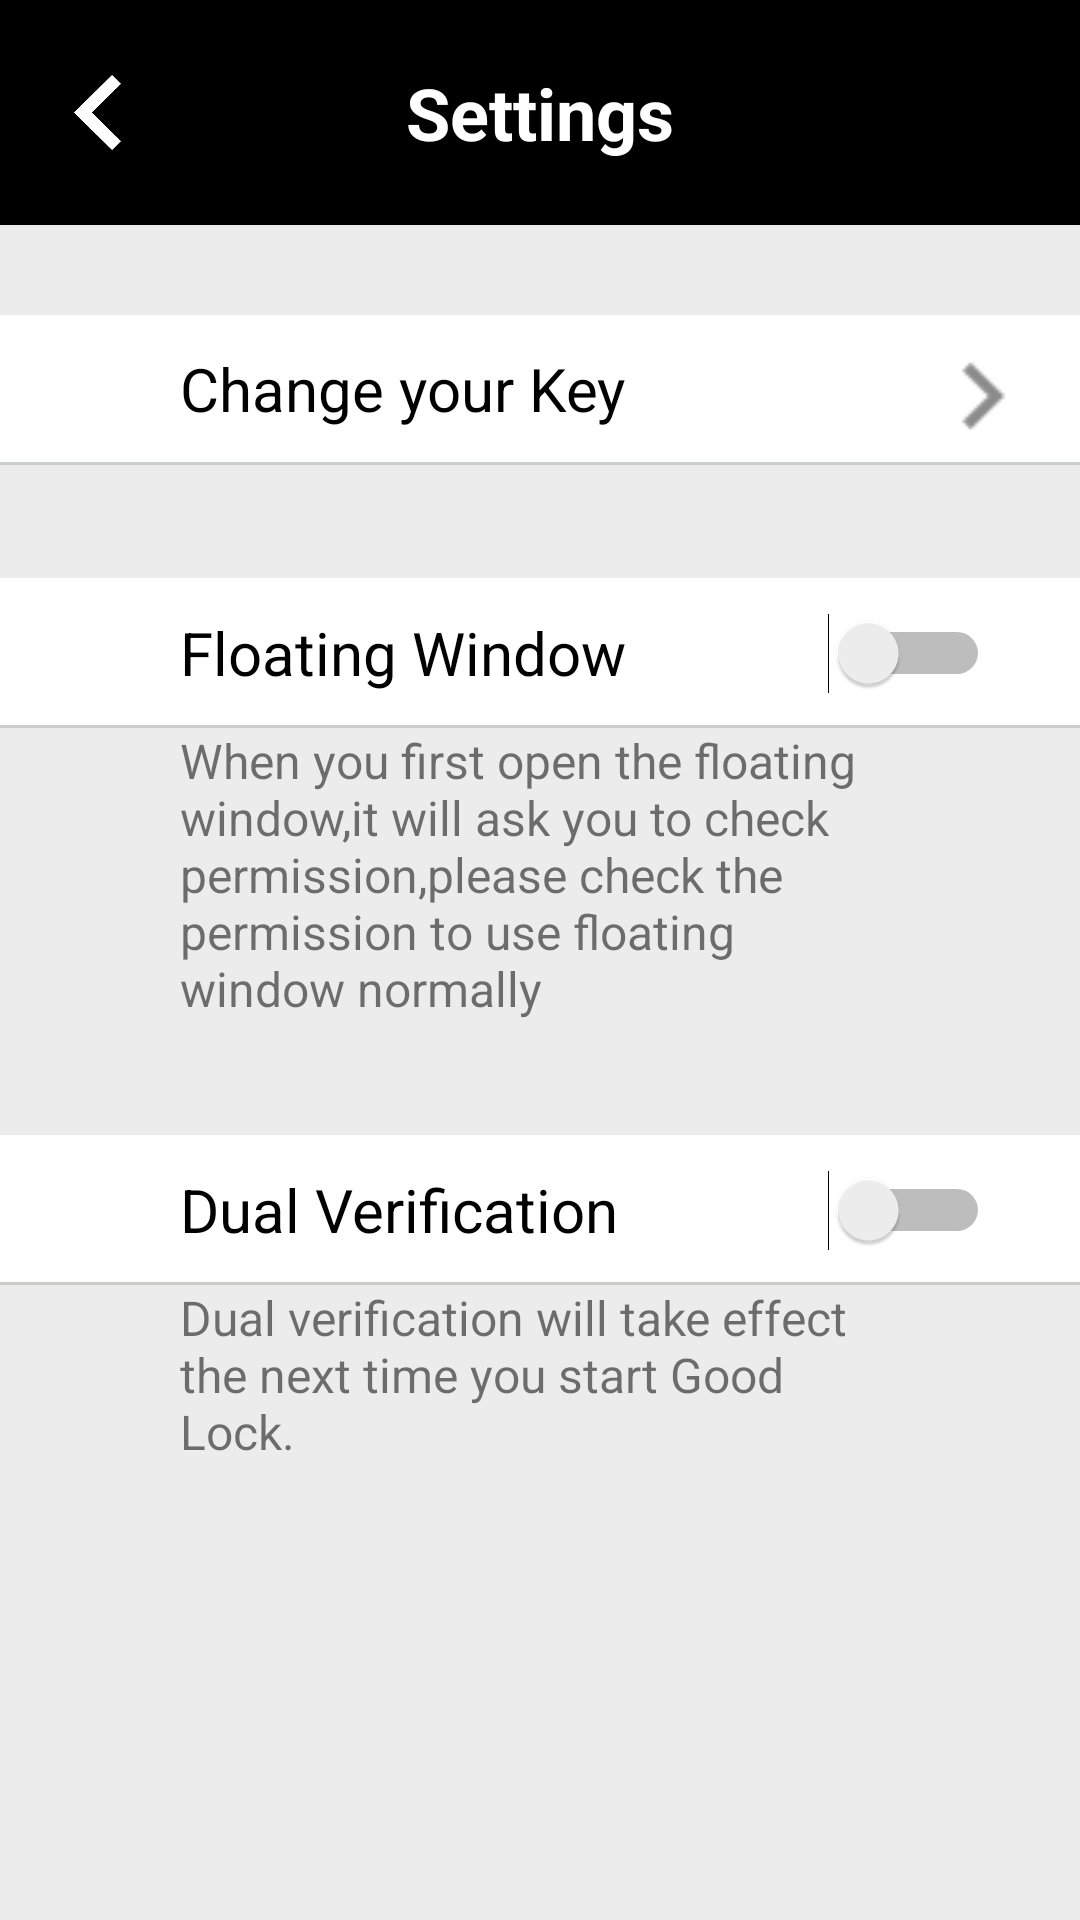

Icon click points for this 1080px×1920px phone screenshot, format point (x, y):
Next: point (983, 396)
